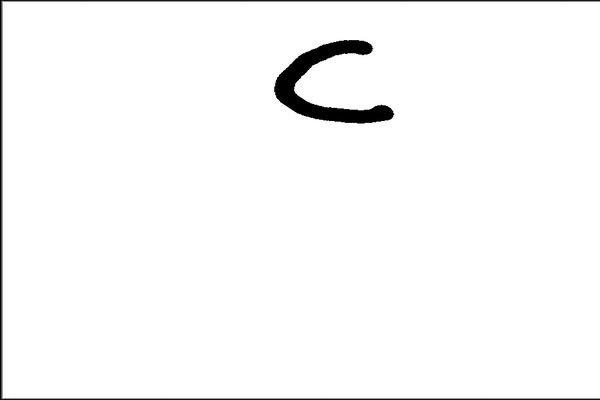C: (268, 32, 396, 127)
